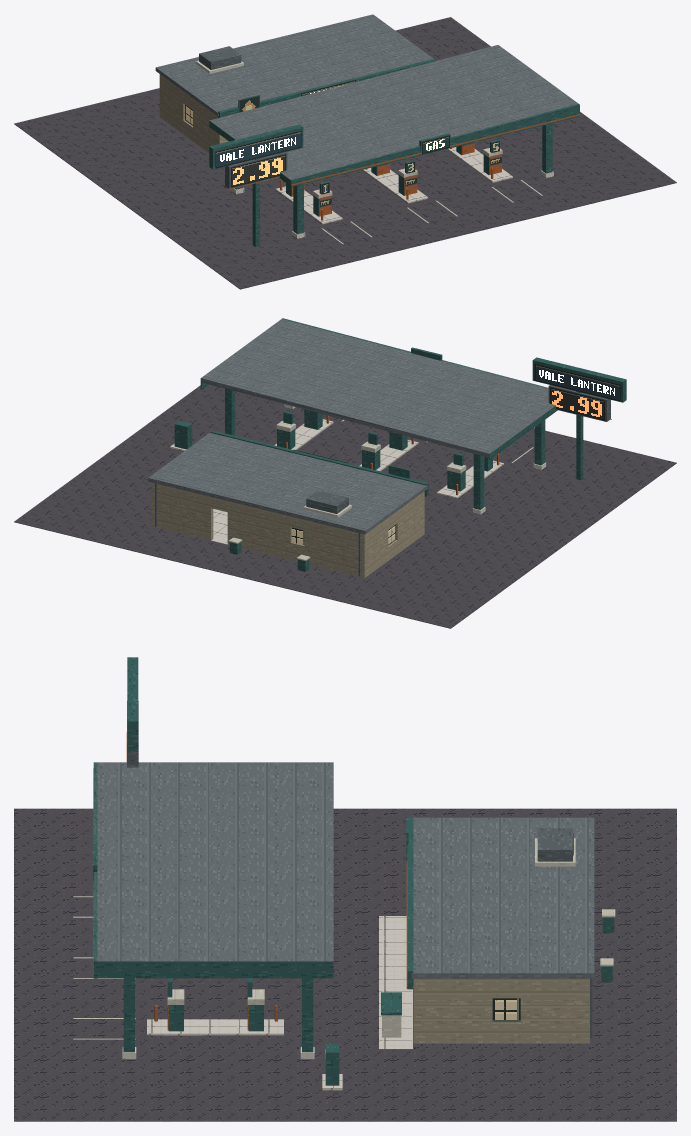
The model's file is vale-lantern-1975-far.glb.
3 views of the same model, one above another, from view 1: azimuth 30°, elevation 25°; view 2: azimuth 150°, elevation 25°; view 3: azimuth 270°, elevation 25° (orthographic). The views are drawn at different scales.
Parts seen in each view (by area): view 1: lot, fuel_canopy, shell, fuel_pumps, roadside_sign, sign_name_street, price_face_street, pump_3, pump_1, pump_5; view 2: lot, fuel_canopy, shell, roadside_sign, fuel_pumps, sign_name_exit, price_face_exit, interior, pump_2, pump_4, pump_6, air_machine; view 3: lot, fuel_canopy, shell, fuel_pumps, roadside_sign, ice_chest, air_machine, pump_5, pump_6.
Part boxes in pixels (x1,y1,x2,y2): lot: (14,17,676,289); fuel_canopy: (209,45,580,238); shell: (155,14,436,152); fuel_pumps: (275,147,512,224); roadside_sign: (209,124,303,246); sign_name_street: (215,131,301,168); price_face_street: (231,154,285,187); pump_3: (398,160,417,195); pump_1: (313,181,332,216); pump_5: (483,139,502,174); lot: (14,384,676,628); fuel_canopy: (200,318,557,514); shell: (148,430,428,577); roadside_sign: (532,357,626,479); fuel_pumps: (274,415,503,498); sign_name_exit: (534,364,620,401); price_face_exit: (550,387,604,420); interior: (152,509,422,578); pump_2: (447,452,466,491); pump_4: (361,432,380,469); pump_6: (276,411,295,449); air_machine: (170,420,192,451); lot: (14,808,676,1121); fuel_canopy: (93,762,333,1059); shell: (406,816,594,1043); fuel_pumps: (147,1005,283,1035); roadside_sign: (126,657,138,767); ice_chest: (381,992,401,1037); air_machine: (322,1043,342,1090); pump_5: (167,978,184,1031); pump_6: (247,978,264,1031).
Size of the model in its own units: 31.45 by 7.52 by 28.2.
Materials: 11 (11 with a texture image).
